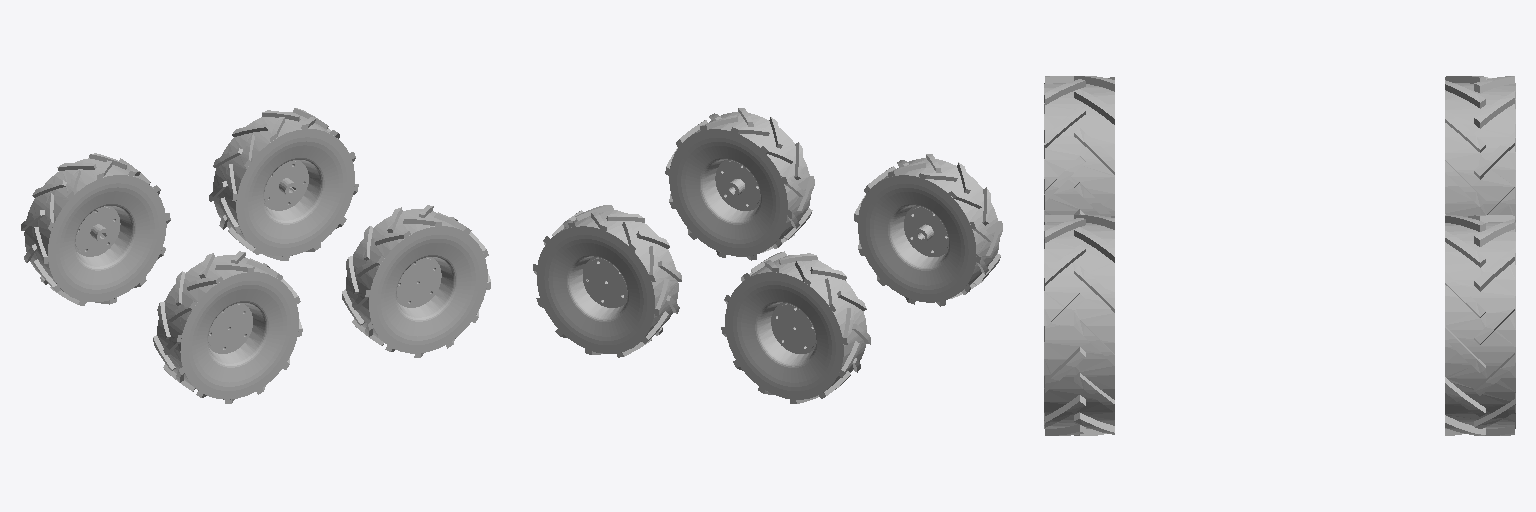
The robot description file, URDF, robot "ROVER_1000_WATT_VARIANT.SLDASM":
<?xml version="1.0" encoding="utf-8"?>
<!-- This URDF was automatically created by SolidWorks to URDF Exporter! Originally created by Stephen Brawner (brawner@gmail.com) 
     Commit Version: 1.6.0-4-g7f85cfe  Build Version: 1.6.7995.38578
     For more information, please see http://wiki.ros.org/sw_urdf_exporter -->
<robot
  name="ROVER_1000_WATT_VARIANT.SLDASM">
  <!-- Massless root link on the ground plane, below base_link (wheel radius 0.1699 - joint z 0.037363) -->
  <link
    name="base_footprint" />
  <joint
    name="base_footprint_joint"
    type="fixed">
    <origin
      xyz="0 0 0.132487"
      rpy="0 0 0" />
    <parent
      link="base_footprint" />
    <child
      link="base_link" />
  </joint>
  <link
    name="base_link">
    <inertial>
      <origin
        xyz="0.0160214617664491 -0.000470435452859783 0.107817531003205"
        rpy="0 0 0" />
      <mass
        value="37.2297696413548" />
      <inertia
        ixx="0.327697897335902"
        ixy="-0.000815380156152649"
        ixz="3.69646892519238E-06"
        iyy="0.314462293606544"
        iyz="-5.45800544682604E-05"
        izz="0.57169437099185" />
    </inertial>
    <visual>
      <origin
        xyz="0 0 0"
        rpy="0 0 0" />
      <geometry>
        <mesh
          filename="package://ROVER_1000_WATT_VARIANT.SLDASM/meshes/base_link.STL" />
      </geometry>
      <material
        name="">
        <color
          rgba="0.792156862745098 0.819607843137255 0.933333333333333 1" />
      </material>
    </visual>
    <!-- Simplified collision: box over the body, kept inside the wheels' inner faces (|y| < 0.2528) -->
    <collision>
      <origin
        xyz="0.0015 0 0.2675"
        rpy="0 0 0" />
      <geometry>
        <box
          size="0.823 0.5 0.575" />
      </geometry>
    </collision>
  </link>
  <link
    name="link_back_left">
    <inertial>
      <origin
        xyz="-5.0352E-06 -0.0024212 6.385E-06"
        rpy="0 0 0" />
      <mass
        value="5.0741" />
      <inertia
        ixx="0.036669"
        ixy="-2.5769E-07"
        ixz="-1.9301E-07"
        iyy="0.066215"
        iyz="3.2639E-07"
        izz="0.036669" />
    </inertial>
    <visual>
      <origin
        xyz="0 0 0"
        rpy="0 0 0" />
      <geometry>
        <mesh
          filename="package://ROVER_1000_WATT_VARIANT.SLDASM/meshes/link_back_left.STL" />
      </geometry>
      <material
        name="">
        <color
          rgba="0.75294 0.75294 0.75294 1" />
      </material>
    </visual>
    <collision>
      <origin
        xyz="0 -0.0017 0"
        rpy="1.5707963 0 0" />
      <geometry>
        <cylinder
          radius="0.1699"
          length="0.108" />
      </geometry>
    </collision>
  </link>
  <joint
    name="joint_back_left"
    type="continuous">
    <origin
      xyz="-0.25156 0.30851 0.037363"
      rpy="0 0 0" />
    <parent
      link="base_link" />
    <child
      link="link_back_left" />
    <axis
      xyz="0 1 0" />
  </joint>
  <link
    name="link_back_right">
    <inertial>
      <origin
        xyz="8.1206E-06 0.0024212 4.2036E-07"
        rpy="0 0 0" />
      <mass
        value="5.0741" />
      <inertia
        ixx="0.036669"
        ixy="-4.1531E-07"
        ixz="1.718E-08"
        iyy="0.066215"
        iyz="-2.1256E-08"
        izz="0.036669" />
    </inertial>
    <visual>
      <origin
        xyz="0 0 0"
        rpy="0 0 0" />
      <geometry>
        <mesh
          filename="package://ROVER_1000_WATT_VARIANT.SLDASM/meshes/link_back_right.STL" />
      </geometry>
      <material
        name="">
        <color
          rgba="0.75294 0.75294 0.75294 1" />
      </material>
    </visual>
    <collision>
      <origin
        xyz="0 0.0017 0"
        rpy="1.5707963 0 0" />
      <geometry>
        <cylinder
          radius="0.1699"
          length="0.108" />
      </geometry>
    </collision>
  </link>
  <joint
    name="joint_back_right"
    type="continuous">
    <origin
      xyz="-0.25156 -0.30851 0.037363"
      rpy="0 0 0" />
    <parent
      link="base_link" />
    <child
      link="link_back_right" />
    <axis
      xyz="0 1 0" />
  </joint>
  <link
    name="link_front_right">
    <inertial>
      <origin
        xyz="3.603E-06 0.0024212 7.2897E-06"
        rpy="0 0 0" />
      <mass
        value="5.0741" />
      <inertia
        ixx="0.036669"
        ixy="-1.8448E-07"
        ixz="1.5903E-07"
        iyy="0.066215"
        iyz="-3.7269E-07"
        izz="0.036669" />
    </inertial>
    <visual>
      <origin
        xyz="0 0 0"
        rpy="0 0 0" />
      <geometry>
        <mesh
          filename="package://ROVER_1000_WATT_VARIANT.SLDASM/meshes/link_front_right.STL" />
      </geometry>
      <material
        name="">
        <color
          rgba="0.75294 0.75294 0.75294 1" />
      </material>
    </visual>
    <collision>
      <origin
        xyz="0 0.0017 0"
        rpy="1.5707963 0 0" />
      <geometry>
        <cylinder
          radius="0.1699"
          length="0.108" />
      </geometry>
    </collision>
  </link>
  <joint
    name="joint_front_right"
    type="continuous">
    <origin
      xyz="0.2515 -0.30851 0.037363"
      rpy="0 0 0" />
    <parent
      link="base_link" />
    <child
      link="link_front_right" />
    <axis
      xyz="0 1 0" />
  </joint>
  <link
    name="link_front_left">
    <inertial>
      <origin
        xyz="-8.0762E-06 -0.0024212 9.4689E-07"
        rpy="0 0 0" />
      <mass
        value="5.0741" />
      <inertia
        ixx="0.036669"
        ixy="-4.1305E-07"
        ixz="-4.2569E-08"
        iyy="0.066215"
        iyz="4.8185E-08"
        izz="0.036669" />
    </inertial>
    <visual>
      <origin
        xyz="0 0 0"
        rpy="0 0 0" />
      <geometry>
        <mesh
          filename="package://ROVER_1000_WATT_VARIANT.SLDASM/meshes/link_front_left.STL" />
      </geometry>
      <material
        name="">
        <color
          rgba="0.75294 0.75294 0.75294 1" />
      </material>
    </visual>
    <collision>
      <origin
        xyz="0 -0.0017 0"
        rpy="1.5707963 0 0" />
      <geometry>
        <cylinder
          radius="0.1699"
          length="0.108" />
      </geometry>
    </collision>
  </link>
  <joint
    name="joint_front_left"
    type="continuous">
    <origin
      xyz="0.2515 0.30851 0.037363"
      rpy="0 0 0" />
    <parent
      link="base_link" />
    <child
      link="link_front_left" />
    <axis
      xyz="0 1 0" />
  </joint>
</robot>

--- What the picture shows (computed from the rendered views, not written in the file) ---
3 views of the same robot in one strip: view 1: azimuth 30°, elevation 25°; view 2: azimuth 150°, elevation 25°; view 3: azimuth 270°, elevation 25° (orthographic).
Robot: ROVER_1000_WATT_VARIANT.SLDASM — 6 links, 5 joints (4 continuous, 1 fixed); root link base_footprint; default pose: every joint at zero.
Visible links, largest first — view 1: link_back_left, link_back_right, link_front_left, link_front_right; view 2: link_front_right, link_back_left, link_front_left, link_back_right; view 3: link_front_right, link_front_left, link_back_right, link_back_left.
Boxes of the visible links, box(x1,y1,x2,y2) form: link_back_left: box(21, 153, 170, 305); link_back_right: box(153, 251, 302, 403); link_front_left: box(209, 108, 358, 260); link_front_right: box(342, 205, 490, 357); link_front_right: box(665, 108, 814, 260); link_back_left: box(721, 251, 870, 403); link_front_left: box(533, 205, 681, 357); link_back_right: box(854, 154, 1002, 306); link_front_right: box(1044, 215, 1114, 435); link_front_left: box(1445, 215, 1515, 435); link_back_right: box(1044, 76, 1114, 221); link_back_left: box(1445, 76, 1515, 221).
Size in the robot's own frame: 0.8428 by 0.7215 by 0.3397 metres.
Meshes: 5 distinct files referenced, 4 mesh visuals loaded (4 binary STL); not drawn: 1 (reference not matched to a file when rendering).
